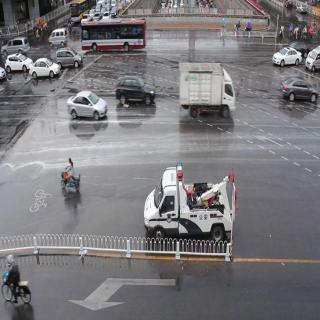Car: (140, 158, 240, 262), (174, 59, 237, 124), (76, 19, 150, 54), (113, 72, 157, 112), (278, 70, 320, 111), (65, 87, 108, 125), (273, 41, 303, 70), (28, 56, 61, 82), (53, 45, 82, 72), (5, 50, 32, 76), (48, 28, 69, 47)
